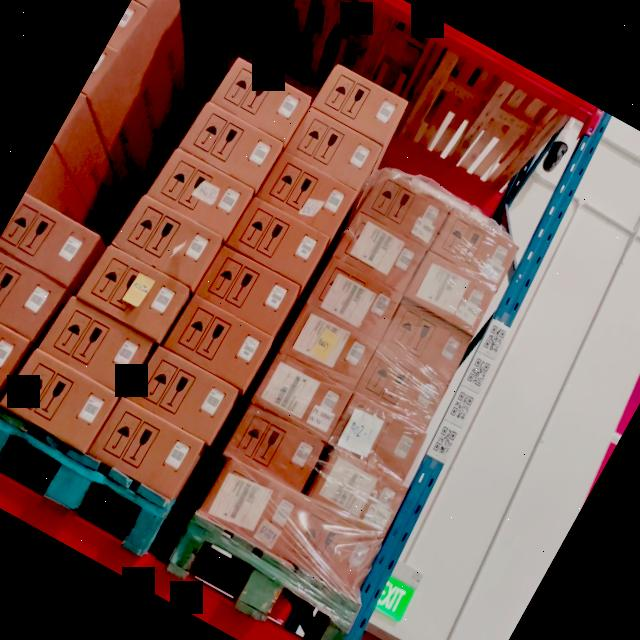box: (196, 455, 384, 597), (4, 349, 120, 454), (89, 398, 205, 501), (42, 297, 154, 396), (78, 246, 189, 344), (128, 346, 238, 443), (164, 294, 274, 391), (114, 194, 222, 288), (0, 192, 102, 290), (224, 401, 328, 495), (180, 100, 284, 190), (150, 148, 253, 238), (228, 198, 330, 288), (198, 247, 300, 336), (212, 57, 313, 146), (331, 396, 432, 484), (310, 447, 408, 537), (254, 352, 354, 439), (306, 256, 404, 344), (310, 62, 410, 148), (281, 304, 379, 390), (286, 108, 384, 191), (357, 168, 453, 252), (260, 154, 356, 238), (333, 210, 428, 294), (380, 300, 474, 384), (406, 253, 499, 335), (357, 350, 450, 430), (431, 212, 521, 290), (0, 248, 67, 344), (0, 304, 30, 397), (107, 1, 146, 53)
